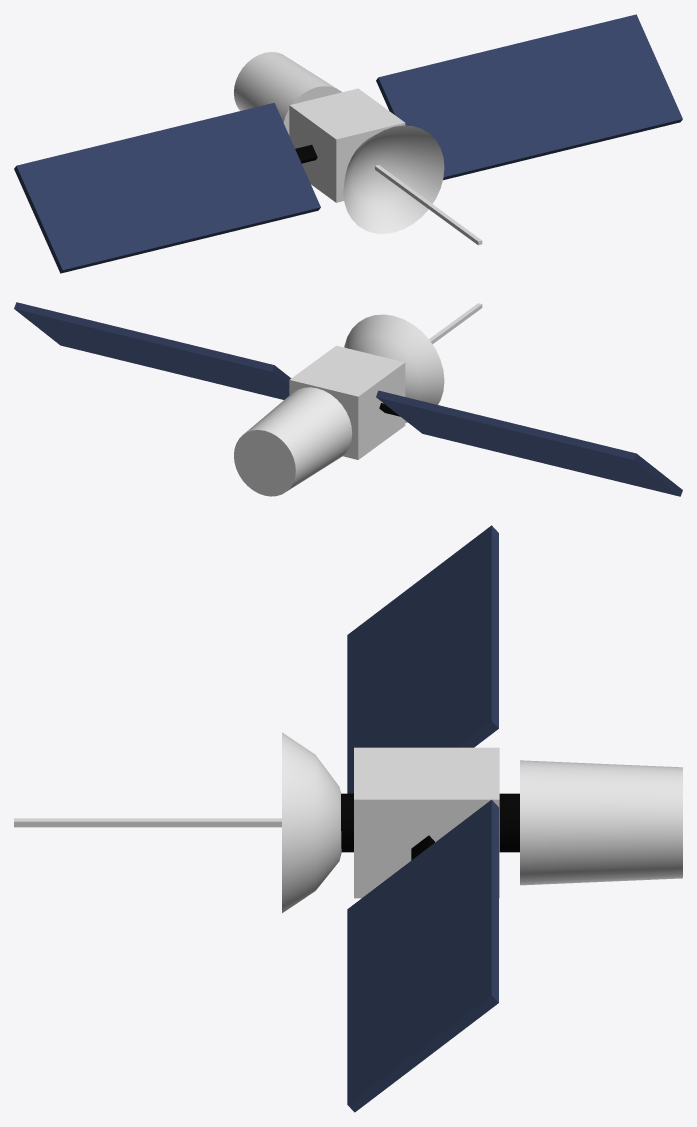
Rendered from Satellite.fbx.
3 views of the same model, one above another, from view 1: azimuth 30°, elevation 25°; view 2: azimuth 150°, elevation 25°; view 3: azimuth 270°, elevation 25° (orthographic). The views are drawn at different scales.
Visible parts, largest first — view 1: Satellite; view 2: Satellite; view 3: Satellite.
Boxes of the visible parts, x1,y1,x2,y2 form: Satellite: (14,14,682,273); Satellite: (14,302,682,496); Satellite: (14,525,682,1112).
Size of the model in its own units: 1835 by 299 by 1104.
